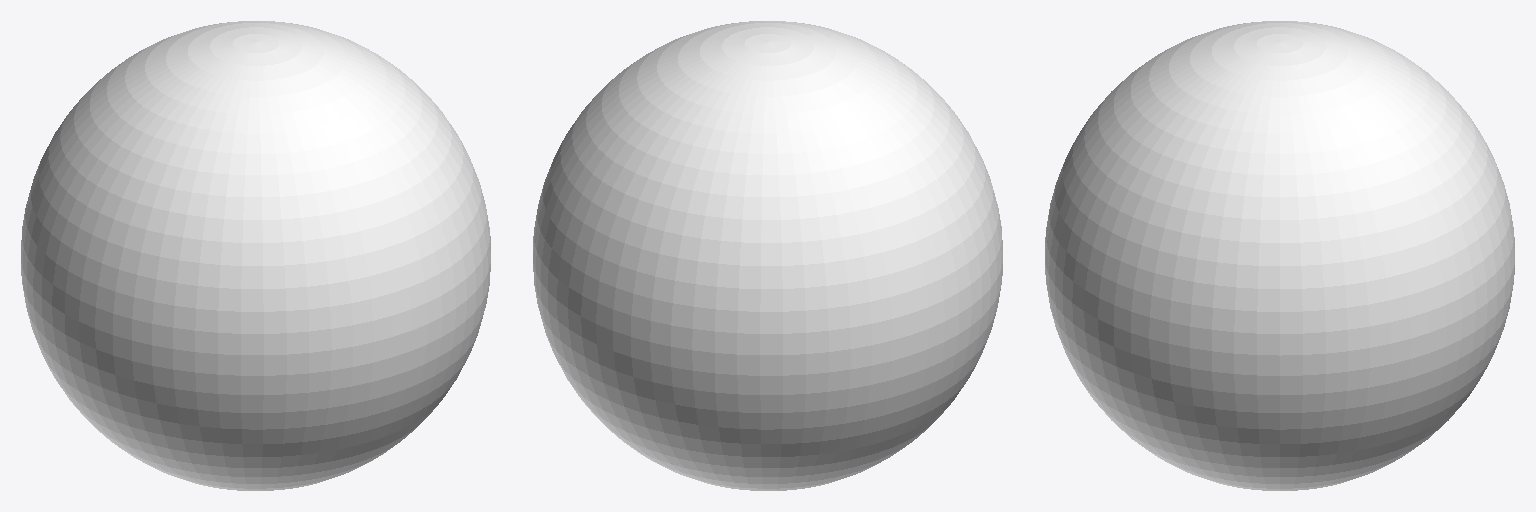
File: sky.obj
The picture shows the model from 3 angles: view 1: azimuth 30°, elevation 25°; view 2: azimuth 150°, elevation 25°; view 3: azimuth 270°, elevation 25°; orthographic projection.
Visible parts, largest first — view 1: Ball; view 2: Ball; view 3: Ball.
Boxes of the visible parts, x1=… form: Ball: x1=21, y1=21, x2=490, y2=490; Ball: x1=533, y1=21, x2=1002, y2=490; Ball: x1=1045, y1=21, x2=1514, y2=490.
Size of the model in its own units: 1 by 1 by 1.